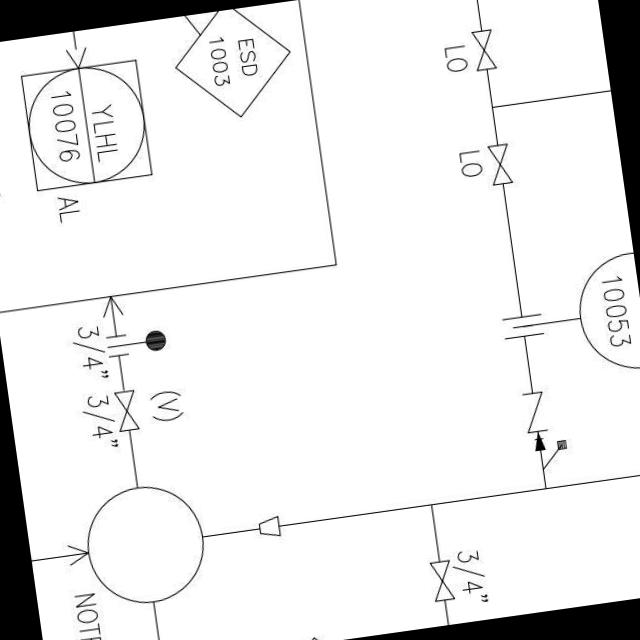GV: (108, 384, 146, 438), (483, 138, 517, 192), (426, 554, 459, 608), (468, 23, 501, 76)
SP: (248, 511, 288, 544)
